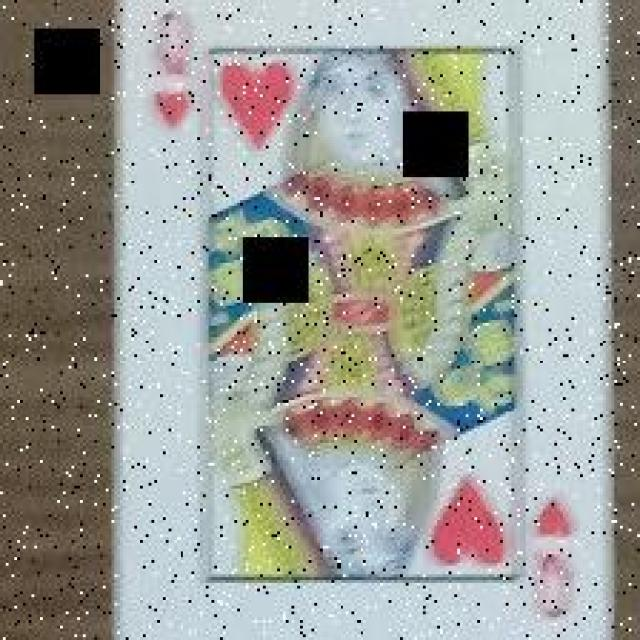Queen of hearts: (115, 0, 613, 640)
